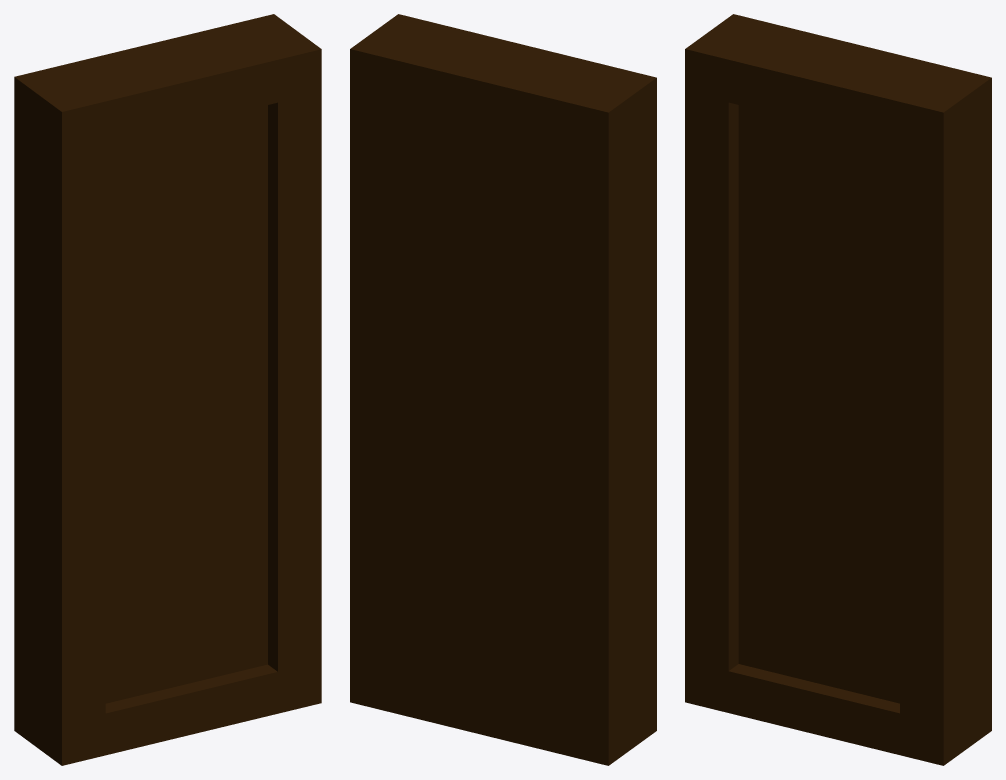
File: Door_R.fbx
3 views of the same model, side by side, from view 1: azimuth 30°, elevation 25°; view 2: azimuth 150°, elevation 25°; view 3: azimuth 330°, elevation 25° (orthographic).
Parts seen in each view (by area): view 1: Door_R; view 2: Door_R; view 3: Door_R.
Boxes of the visible parts, x1,y1,x2,y2 form: Door_R: (14, 14, 321, 765); Door_R: (350, 14, 656, 765); Door_R: (685, 14, 991, 765).
Size of the model in its own units: 78.92 by 190 by 25.57.
